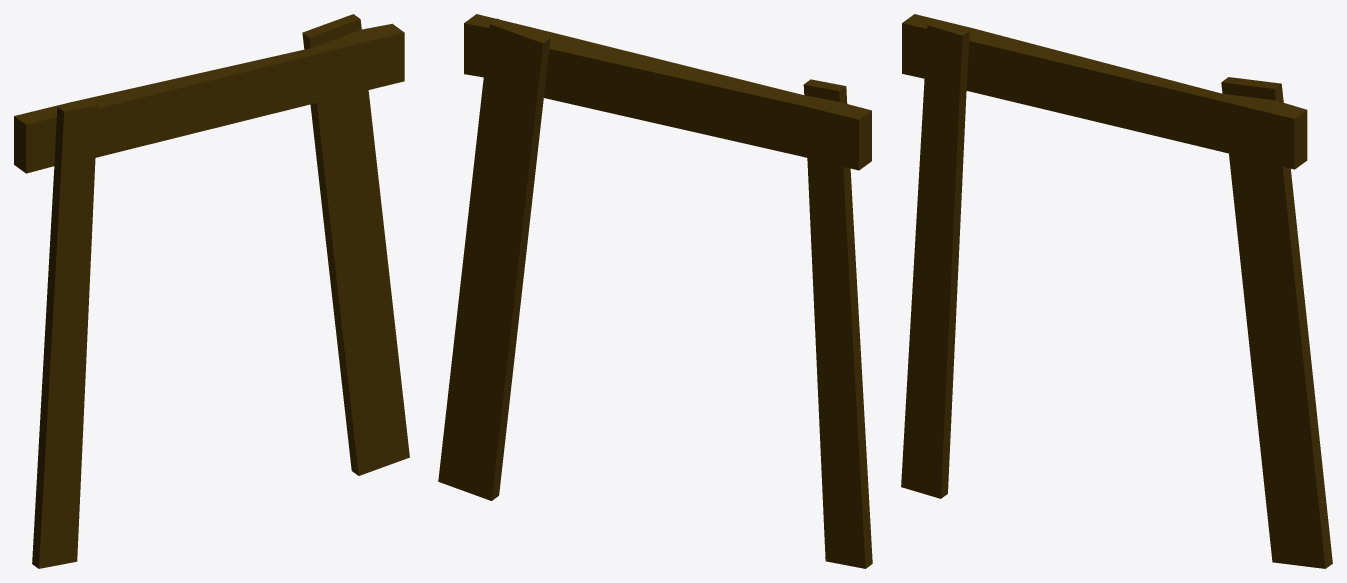
Rendered from MS_TrenchBorder.fbx.
3 views of the same model, side by side, from view 1: azimuth 30°, elevation 25°; view 2: azimuth 150°, elevation 25°; view 3: azimuth 330°, elevation 25° (orthographic). The views are drawn at different scales.
Parts seen in each view (by area): view 1: pCube1; view 2: pCube1; view 3: pCube1.
Part boxes in pixels (left/top/right/bottom): pCube1: left=14, top=14, right=409, bottom=568; pCube1: left=438, top=14, right=872, bottom=568; pCube1: left=901, top=14, right=1332, bottom=568.
Size of the model in its own units: 8.41 by 9.26 by 0.9565.
